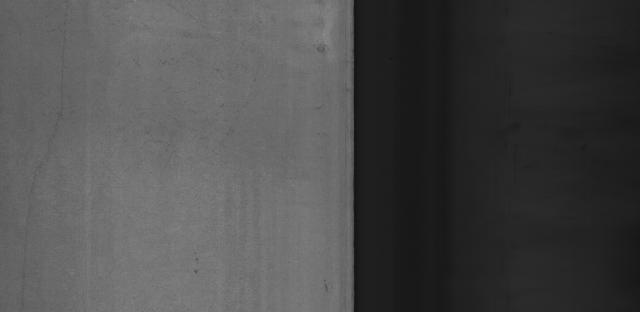inclusion: (181, 246, 211, 284)
silk_spot: (122, 26, 236, 173)
